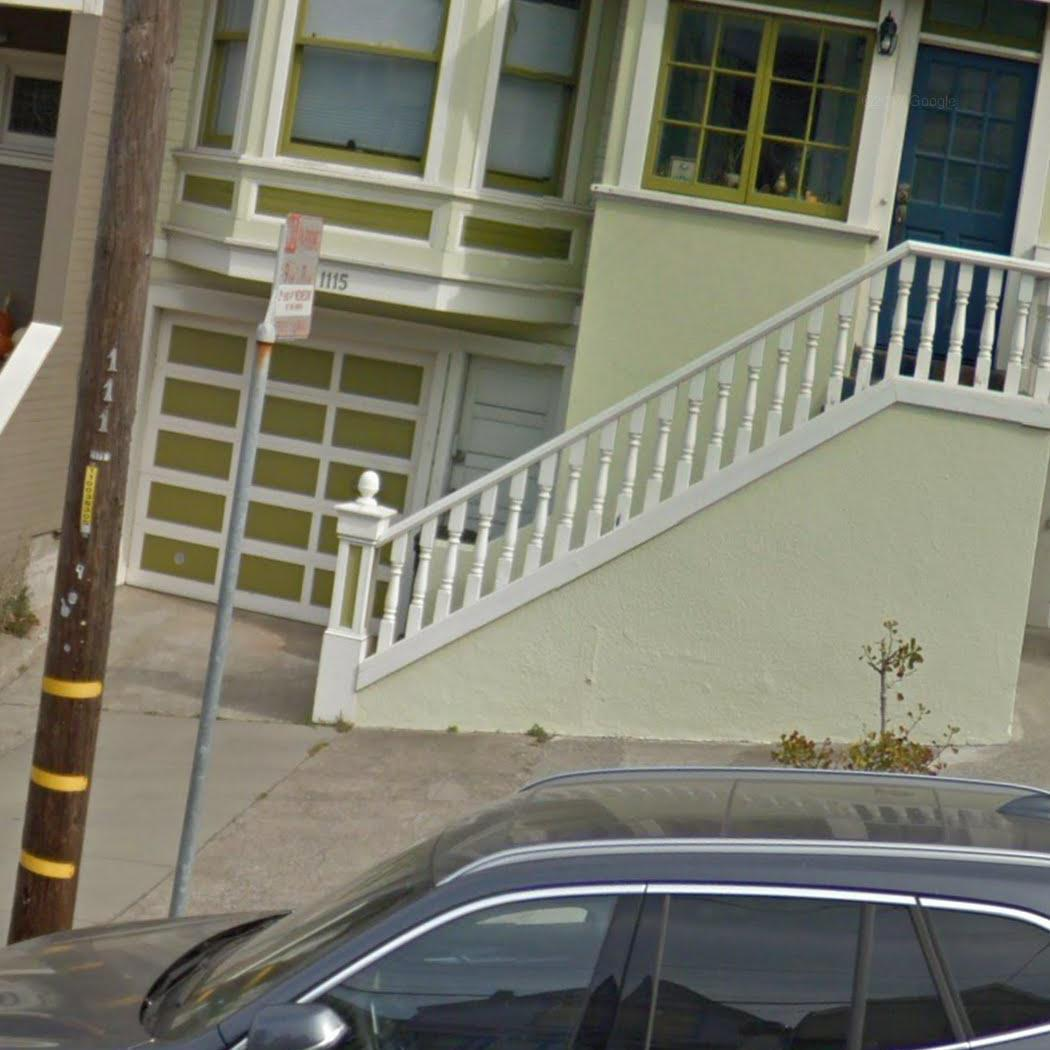No Parking: (264, 209, 331, 347)
